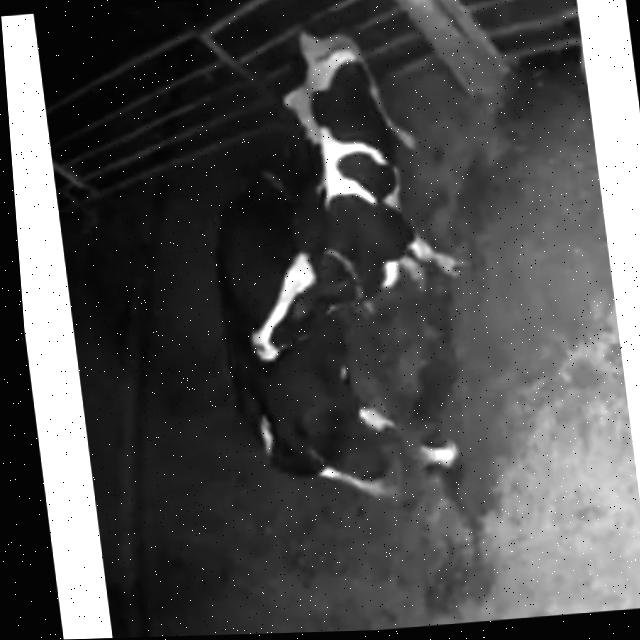propping: (211, 221, 391, 394)
